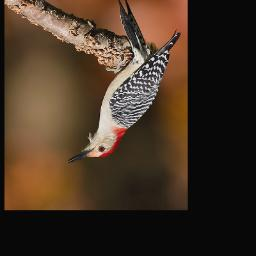Woodpecker: (67, 0, 183, 164)
